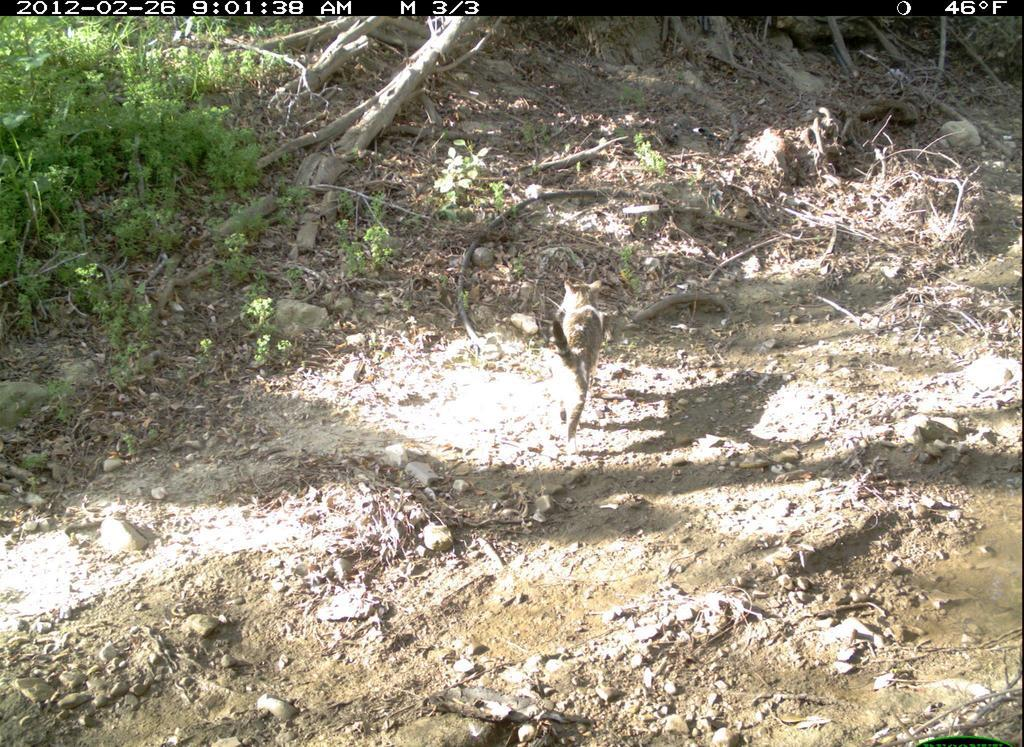cat: (533, 265, 624, 447)
